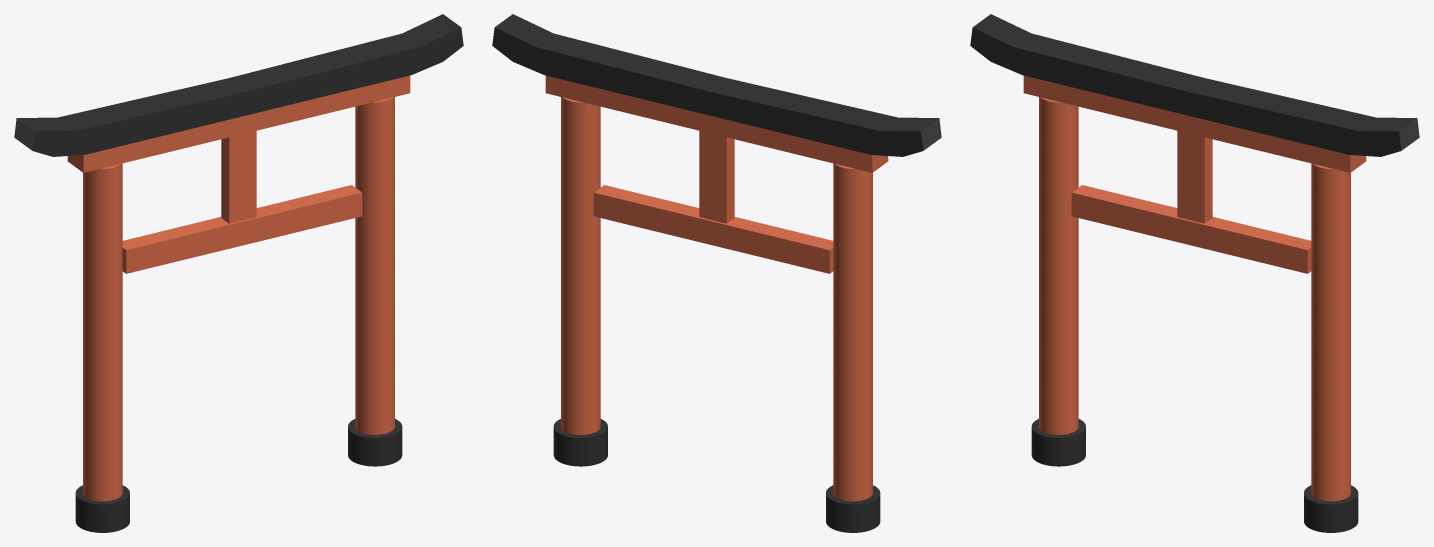
The model's file is kyoto_torii.glb.
The picture shows the model from 3 angles, left to right: view 1: azimuth 30°, elevation 25°; view 2: azimuth 150°, elevation 25°; view 3: azimuth 330°, elevation 25°; orthographic projection.
Visible parts, largest first — view 1: kasagi, hashira_l, hashira_r, nuki, shimaki, gakuzuka, kamebara_r, kamebara_l; view 2: kasagi, hashira_l, hashira_r, nuki, shimaki, gakuzuka, kamebara_r, kamebara_l; view 3: kasagi, hashira_r, hashira_l, nuki, shimaki, gakuzuka, kamebara_l, kamebara_r.
Part boxes in pixels (x1=…): kasagi: x1=14, y1=14, x2=463, y2=156; hashira_l: x1=83, y1=163, x2=122, y2=501; hashira_r: x1=355, y1=97, x2=394, y2=434; nuki: x1=122, y1=185, x2=362, y2=273; shimaki: x1=67, y1=75, x2=410, y2=172; gakuzuka: x1=221, y1=131, x2=256, y2=223; kamebara_r: x1=348, y1=419, x2=402, y2=466; kamebara_l: x1=75, y1=485, x2=129, y2=532; kasagi: x1=492, y1=14, x2=941, y2=156; hashira_l: x1=833, y1=163, x2=872, y2=501; hashira_r: x1=561, y1=97, x2=600, y2=434; nuki: x1=593, y1=185, x2=833, y2=273; shimaki: x1=545, y1=75, x2=888, y2=172; gakuzuka: x1=699, y1=131, x2=734, y2=223; kamebara_r: x1=553, y1=419, x2=607, y2=466; kamebara_l: x1=826, y1=485, x2=880, y2=532; kasagi: x1=970, y1=14, x2=1419, y2=156; hashira_r: x1=1311, y1=163, x2=1350, y2=501; hashira_l: x1=1039, y1=97, x2=1078, y2=434; nuki: x1=1071, y1=185, x2=1311, y2=273; shimaki: x1=1023, y1=75, x2=1366, y2=172; gakuzuka: x1=1177, y1=131, x2=1212, y2=223; kamebara_l: x1=1031, y1=419, x2=1085, y2=466; kamebara_r: x1=1304, y1=485, x2=1358, y2=532.
Size of the model in its own units: 9.5 by 8.75 by 1.04.
